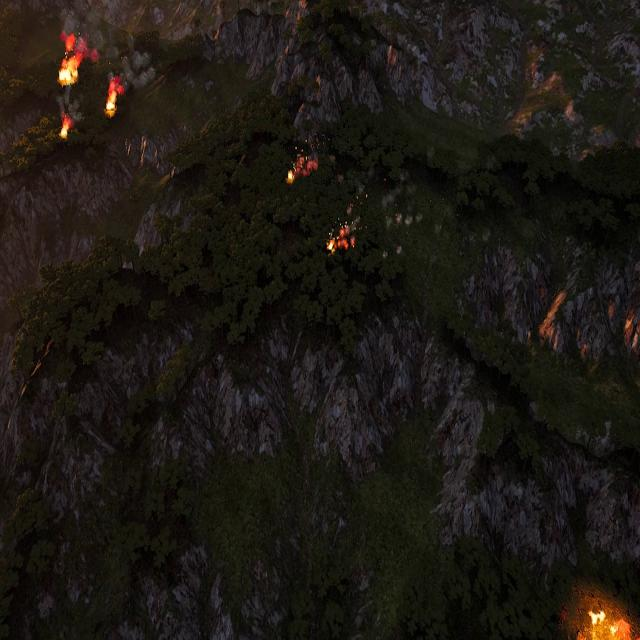fire: (575, 610, 627, 640), (288, 154, 318, 186), (328, 226, 354, 255), (59, 55, 80, 85), (105, 82, 122, 115), (60, 116, 71, 136)
smoke: (61, 14, 107, 64), (113, 50, 156, 91), (58, 92, 81, 122)
